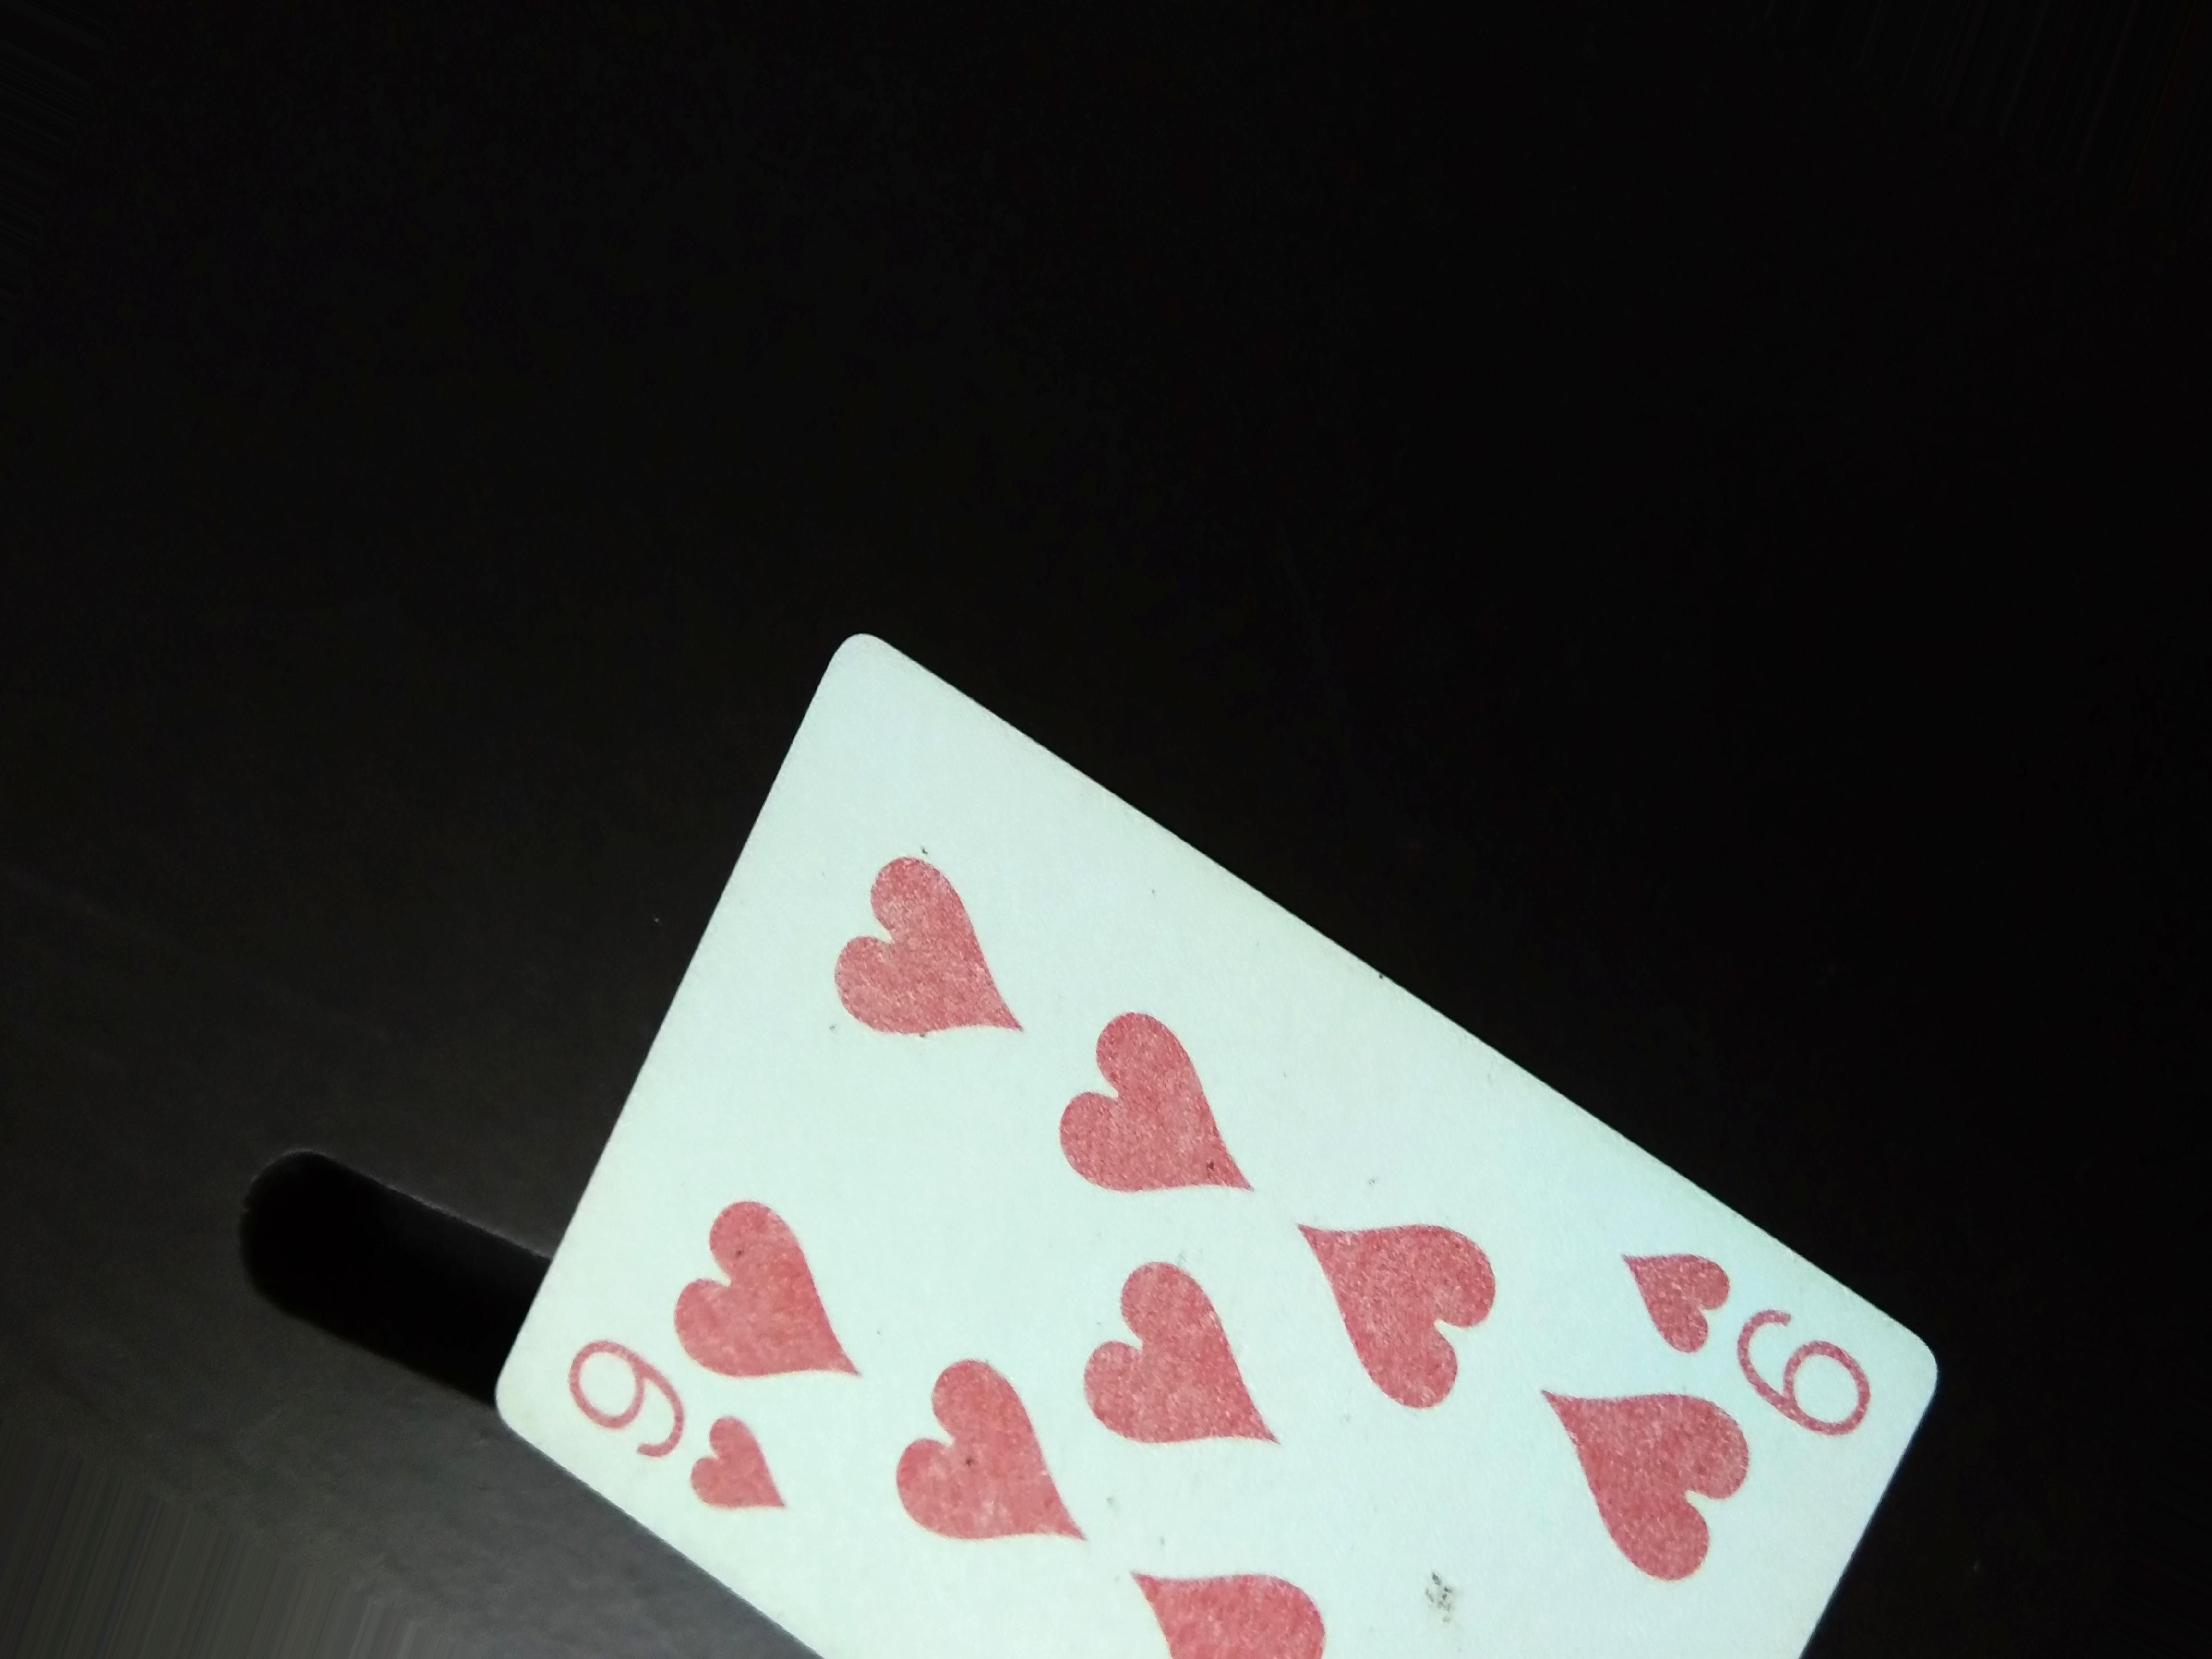9H: (1602, 1227, 1905, 1441)
